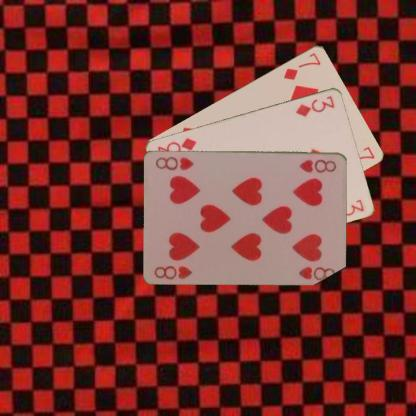3d: (293, 93, 336, 118)
7d: (281, 50, 322, 81)
8h: (152, 263, 194, 281), (297, 156, 337, 174)
